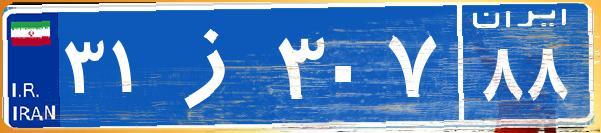0: (330, 28, 385, 110)
1: (110, 28, 158, 105)
3: (273, 28, 330, 110), (57, 26, 110, 107)
7: (385, 28, 445, 110)
8: (475, 38, 525, 113), (525, 38, 570, 115)
ز: (158, 15, 273, 115)
